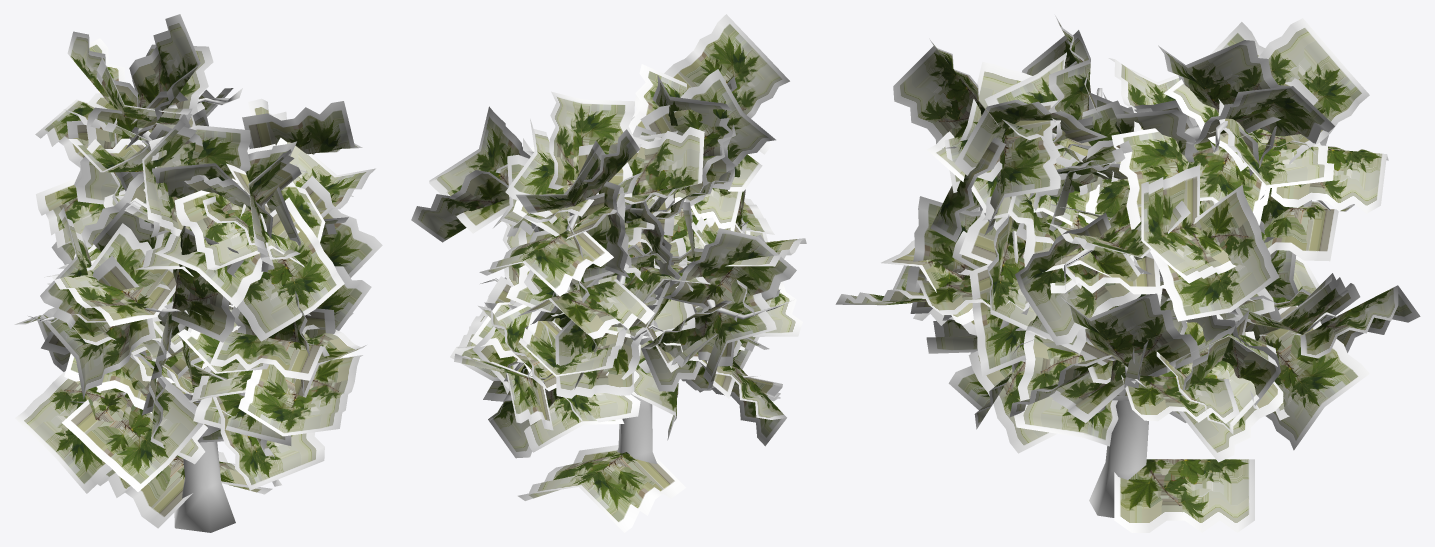
File: NEW_Tree_2_FULL_DECIMATED.fbx
3 views of the same model, side by side, from view 1: azimuth 30°, elevation 25°; view 2: azimuth 150°, elevation 25°; view 3: azimuth 270°, elevation 25° (orthographic). The views are drawn at different scales.
Parts seen in each view (by area): view 1: Stronk|Blaadjes|Dupli|64, Stronk|Blaadjes|Dupli|85, Stronk|Blaadjes|Dupli|98, Stronk|Blaadjes|Dupli|63, Stronk|Blaadjes|Dupli|23, Stronk|Blaadjes|Dupli|87, Stronk, Stronk|Blaadjes|Dupli|130, Stronk|Blaadjes|Dupli|26, Stronk|Blaadjes|Dupli|16, Stronk|Blaadjes|Dupli|55, Stronk|Blaadjes|Dupli|22 (+42 smaller); view 2: Blaadjes, Stronk|Blaadjes|Dupli|107, Stronk|Blaadjes|Dupli|127, Stronk|Blaadjes|Dupli|26, Stronk|Blaadjes|Dupli|62, Stronk|Blaadjes|Dupli|122, Stronk|Blaadjes|Dupli|117, Stronk|Blaadjes|Dupli|16, Stronk|Blaadjes|Dupli|115, Stronk|Blaadjes|Dupli|81, Stronk|Blaadjes|Dupli|15, Stronk|Blaadjes|Dupli|24 (+44 smaller); view 3: Blaadjes, Stronk|Blaadjes|Dupli|15, Stronk|Blaadjes|Dupli|48, Stronk|Blaadjes|Dupli|96, Stronk|Blaadjes|Dupli|16, Stronk|Blaadjes|Dupli|12, Stronk|Blaadjes|Dupli|52, Stronk|Blaadjes|Dupli|127, Stronk|Blaadjes|Dupli|33, Stronk|Blaadjes|Dupli|26, Stronk, Stronk|Blaadjes|Dupli|117 (+50 smaller).
Boxes of the visible parts, box(x1,y1,x2,y2) form: Stronk|Blaadjes|Dupli|64: box(62, 353, 203, 491); Stronk|Blaadjes|Dupli|85: box(237, 197, 344, 341); Stronk|Blaadjes|Dupli|98: box(238, 355, 362, 436); Stronk|Blaadjes|Dupli|63: box(15, 371, 127, 493); Stronk|Blaadjes|Dupli|23: box(44, 223, 176, 326); Stronk|Blaadjes|Dupli|87: box(40, 255, 155, 399); Stronk: box(28, 88, 313, 532); Stronk|Blaadjes|Dupli|130: box(174, 178, 304, 270); Stronk|Blaadjes|Dupli|26: box(125, 14, 200, 149); Stronk|Blaadjes|Dupli|16: box(242, 101, 362, 154); Stronk|Blaadjes|Dupli|55: box(213, 396, 324, 490); Stronk|Blaadjes|Dupli|22: box(171, 226, 243, 342); Blaadjes: box(518, 445, 685, 532); Stronk|Blaadjes|Dupli|107: box(663, 228, 796, 308); Stronk|Blaadjes|Dupli|127: box(664, 14, 789, 118); Stronk|Blaadjes|Dupli|26: box(548, 91, 634, 197); Stronk|Blaadjes|Dupli|62: box(640, 69, 775, 166); Stronk|Blaadjes|Dupli|122: box(624, 127, 704, 204); Stronk|Blaadjes|Dupli|117: box(479, 223, 613, 296); Stronk|Blaadjes|Dupli|16: box(429, 106, 530, 233); Stronk|Blaadjes|Dupli|115: box(518, 279, 654, 339); Stronk|Blaadjes|Dupli|81: box(555, 305, 657, 398); Stronk|Blaadjes|Dupli|15: box(411, 170, 509, 242); Stronk|Blaadjes|Dupli|24: box(519, 310, 627, 376); Blaadjes: box(1114, 459, 1254, 532); Stronk|Blaadjes|Dupli|15: box(1150, 184, 1279, 321); Stronk|Blaadjes|Dupli|48: box(1015, 212, 1140, 345); Stronk|Blaadjes|Dupli|96: box(1258, 305, 1369, 450); Stronk|Blaadjes|Dupli|16: box(1141, 165, 1236, 283); Stronk|Blaadjes|Dupli|12: box(1258, 18, 1369, 164); Stronk|Blaadjes|Dupli|52: box(1061, 293, 1200, 376); Stronk|Blaadjes|Dupli|127: box(893, 38, 999, 143); Stronk|Blaadjes|Dupli|33: box(1014, 330, 1118, 446); Stronk|Blaadjes|Dupli|26: box(1158, 40, 1288, 133); Stronk: box(924, 88, 1337, 517); Stronk|Blaadjes|Dupli|117: box(1271, 145, 1388, 213).
Bounding box in the file's own units: 448 × 535 × 587.
